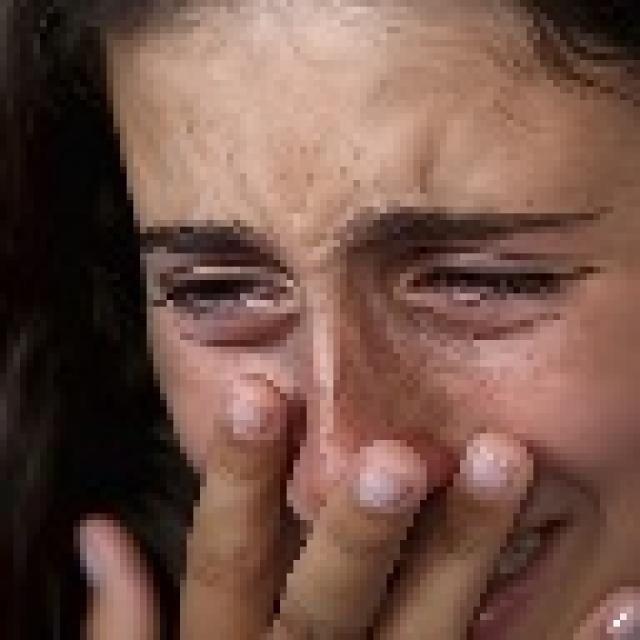sad: (107, 27, 640, 640)
